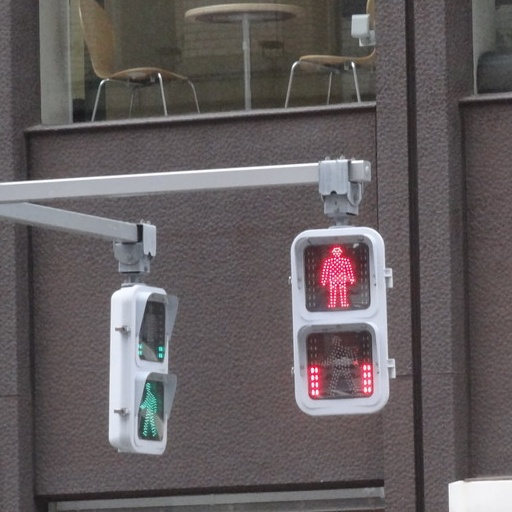Pedestrian_Signal_Blue: (113, 277, 176, 447)
Pedestrian_Signal_Red: (291, 224, 390, 413)
